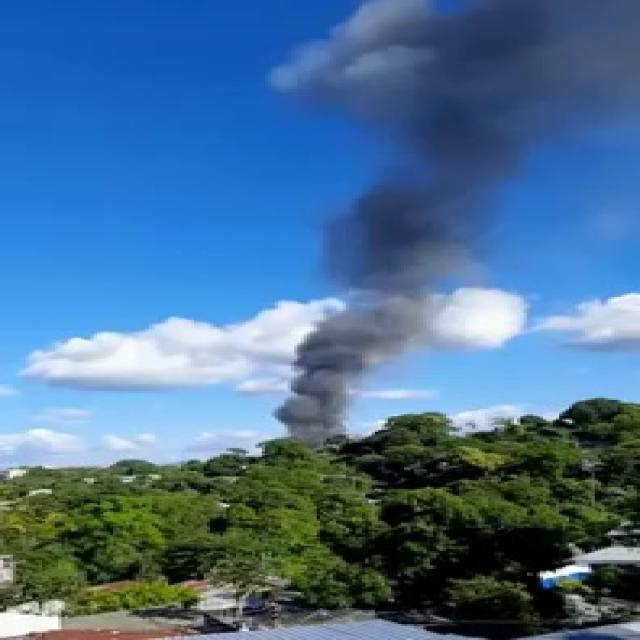Smoke: (233, 0, 602, 482)
